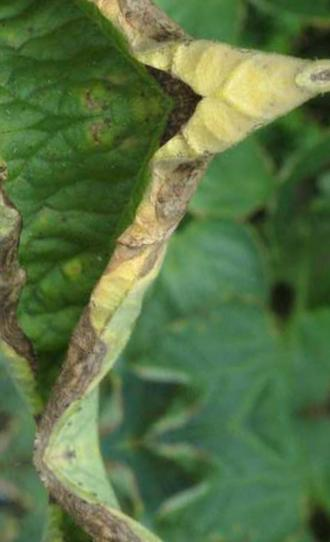Tomato Early blight leaf: (0, 61, 330, 463)
